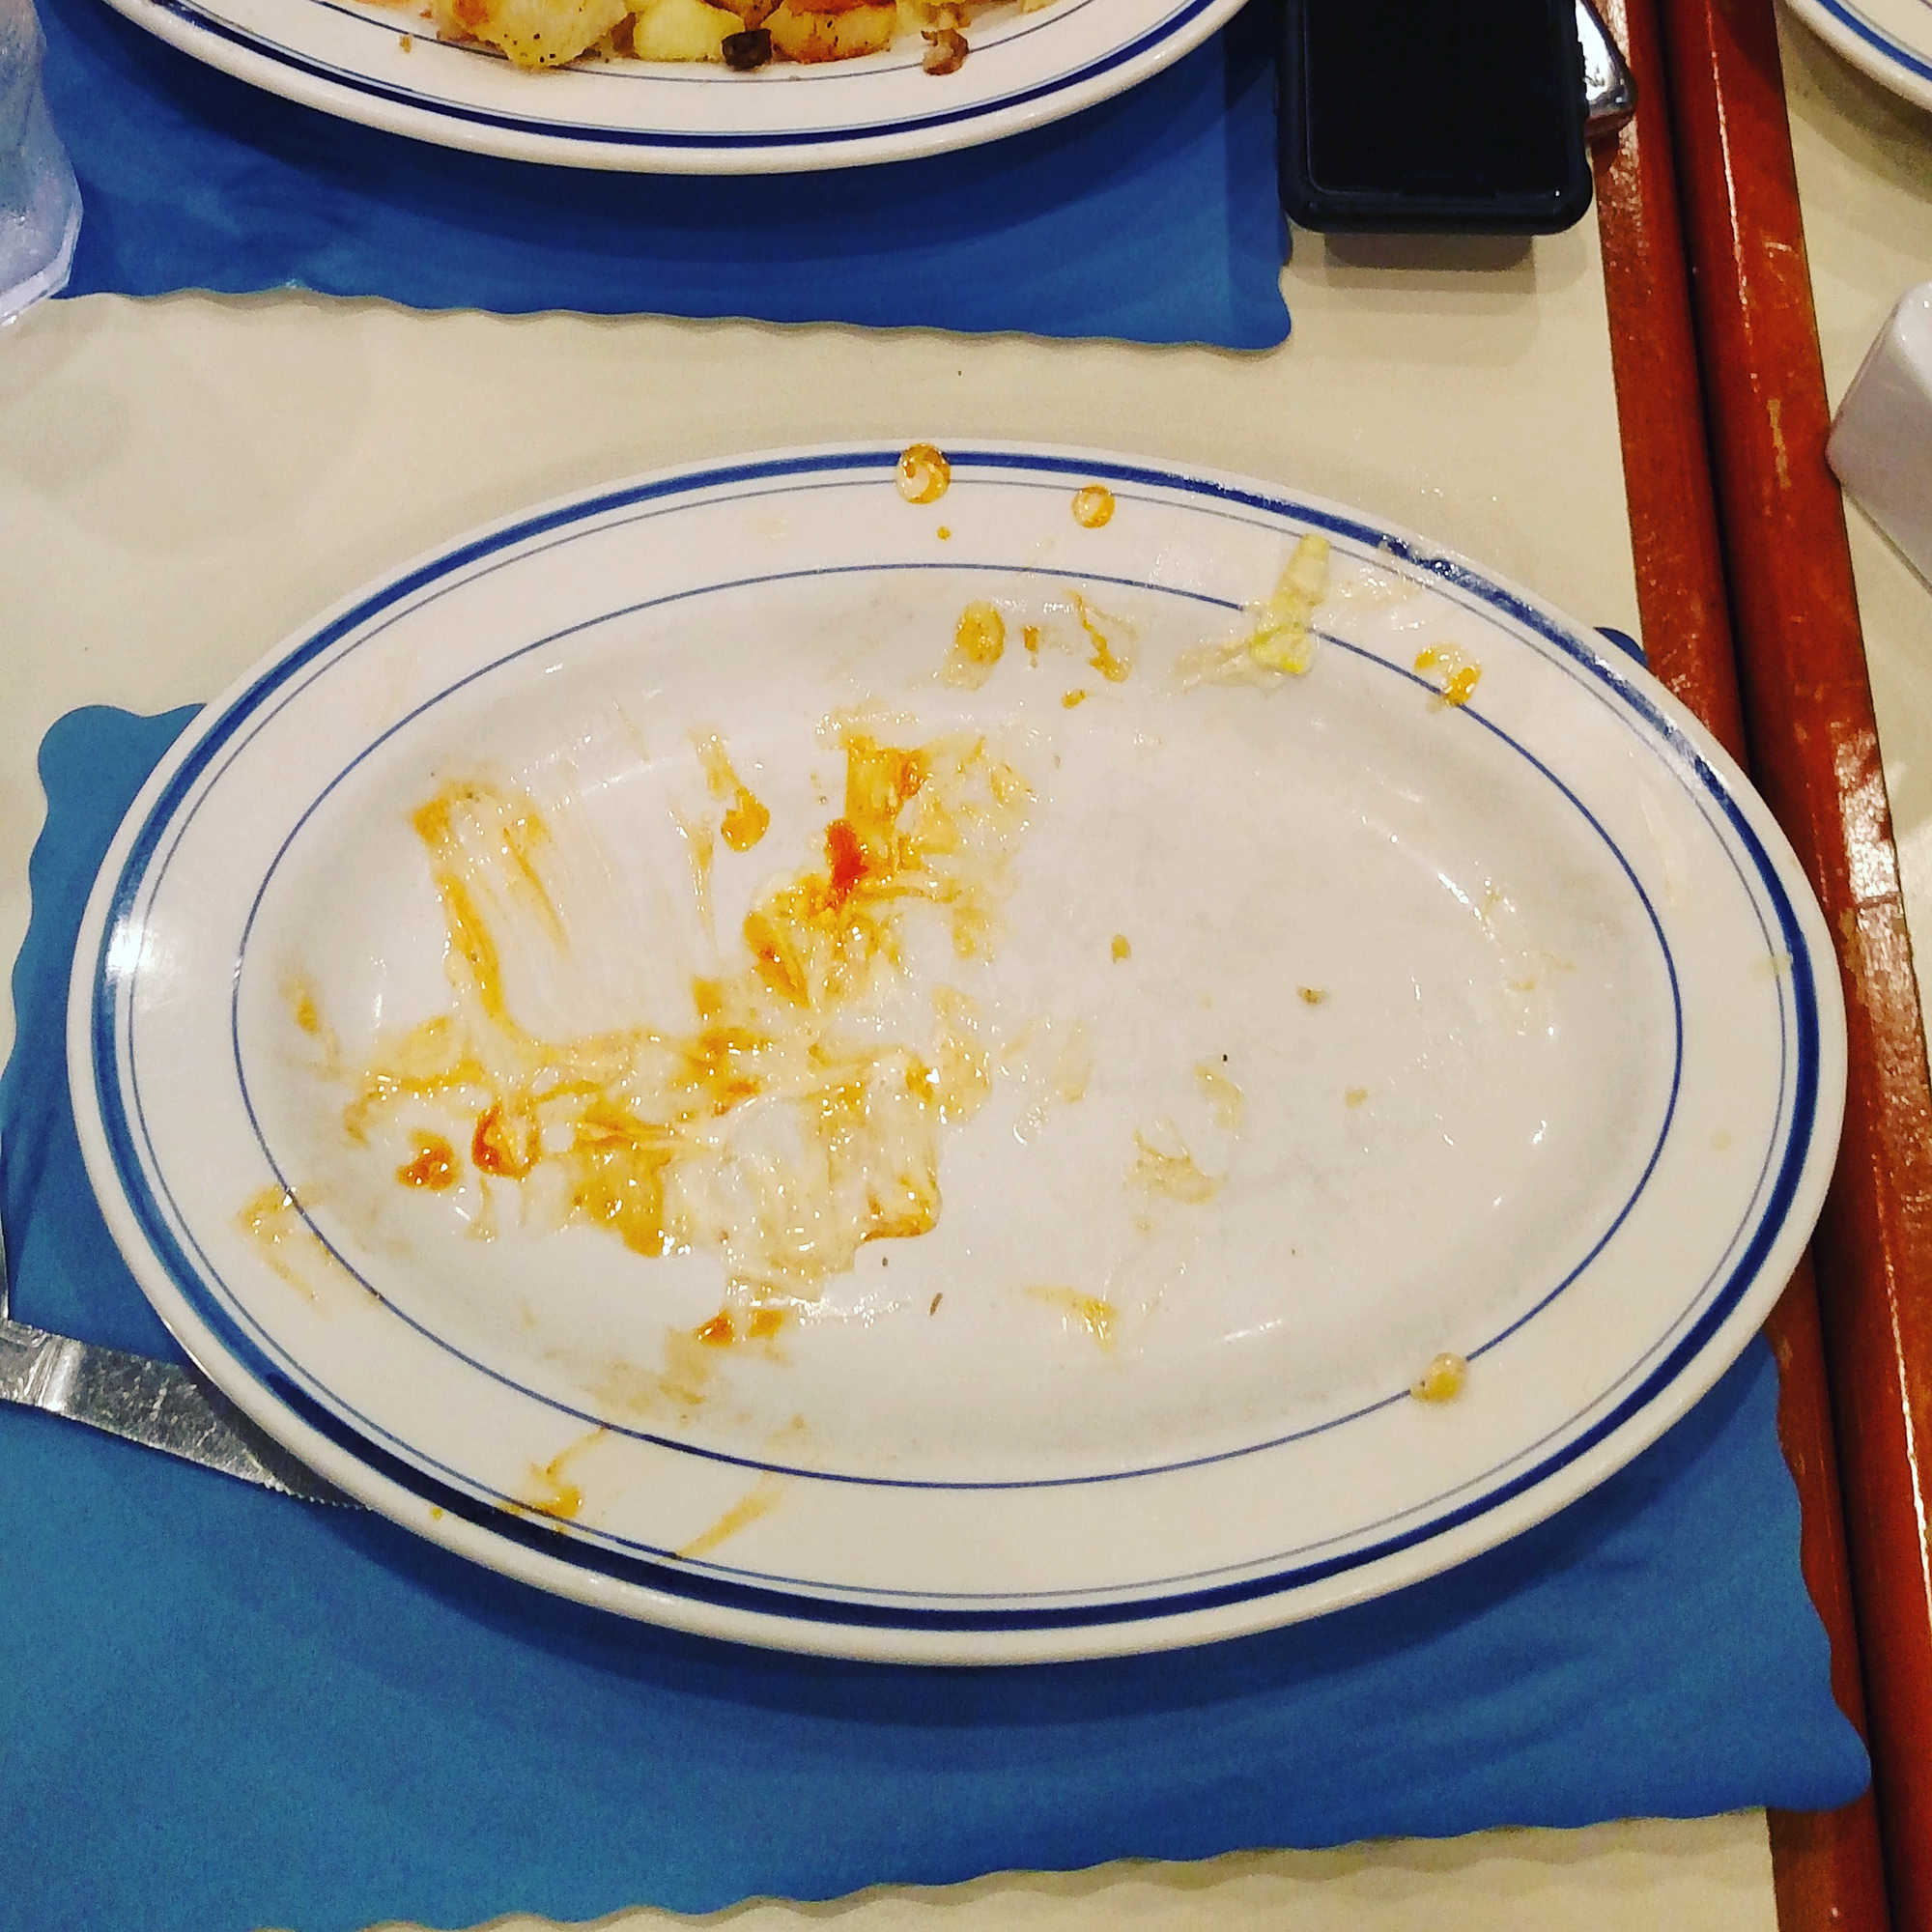plate: (71, 421, 1858, 1686)
